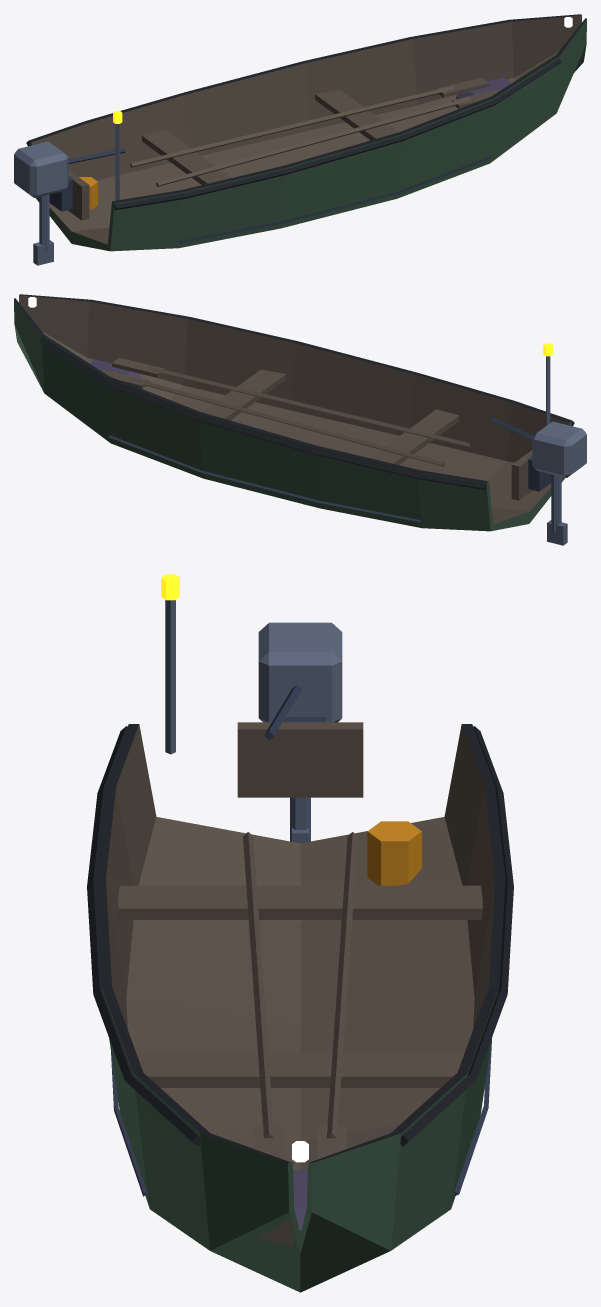
Rendered from dock_skiff.glb.
The picture shows the model from 3 angles, top to bottom: view 1: azimuth 30°, elevation 25°; view 2: azimuth 150°, elevation 25°; view 3: azimuth 270°, elevation 25°; orthographic projection. The views are drawn at different scales.
Parts seen in each view (by area): view 1: hull, thwart, rub_rail, motor, trim, motor_shaft, tarp; view 2: hull, thwart, rub_rail, motor, trim, motor_shaft; view 3: hull, thwart, rub_rail, motor, fuel_can, motor_shaft, trim.
Part boxes in pixels (x1,y1,x2,y2): hull: (28, 14, 586, 251); thwart: (68, 77, 499, 220); rub_rail: (26, 58, 561, 210); motor: (14, 141, 68, 197); trim: (49, 148, 491, 242); motor_shaft: (33, 124, 119, 265); tarp: (456, 77, 511, 98); hull: (14, 294, 572, 531); thwart: (101, 357, 532, 500); rub_rail: (39, 338, 574, 490); motor: (532, 421, 586, 477); trim: (109, 417, 551, 522); motor_shaft: (546, 356, 567, 545); hull: (95, 724, 505, 1292); thwart: (118, 722, 482, 1159); rub_rail: (87, 726, 513, 1146); motor: (258, 622, 342, 722); fuel_can: (367, 821, 421, 885); motor_shaft: (165, 600, 310, 843); trim: (111, 685, 492, 1196).
Size of the model in its own units: 6.2 by 1.72 by 2.04.
